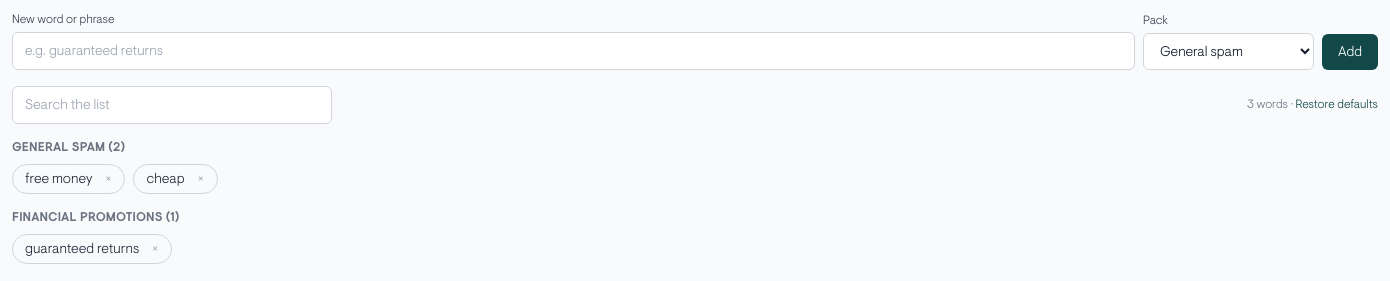
Test: SpamWordListEditor › says when nothing matches the search
In the search field named "Search the word list": coordinates (172, 105) [12,86,332,124], type "zzz"
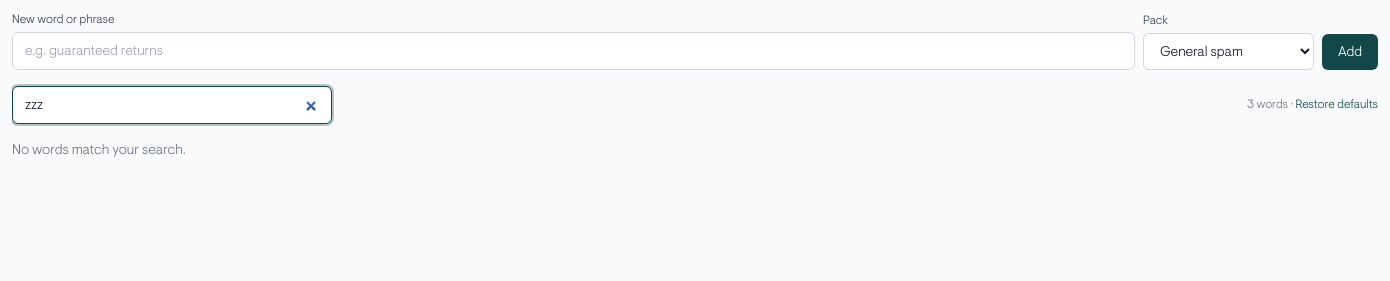
expect the text "No words match your search." is shown: met, box [12,141,186,158]
